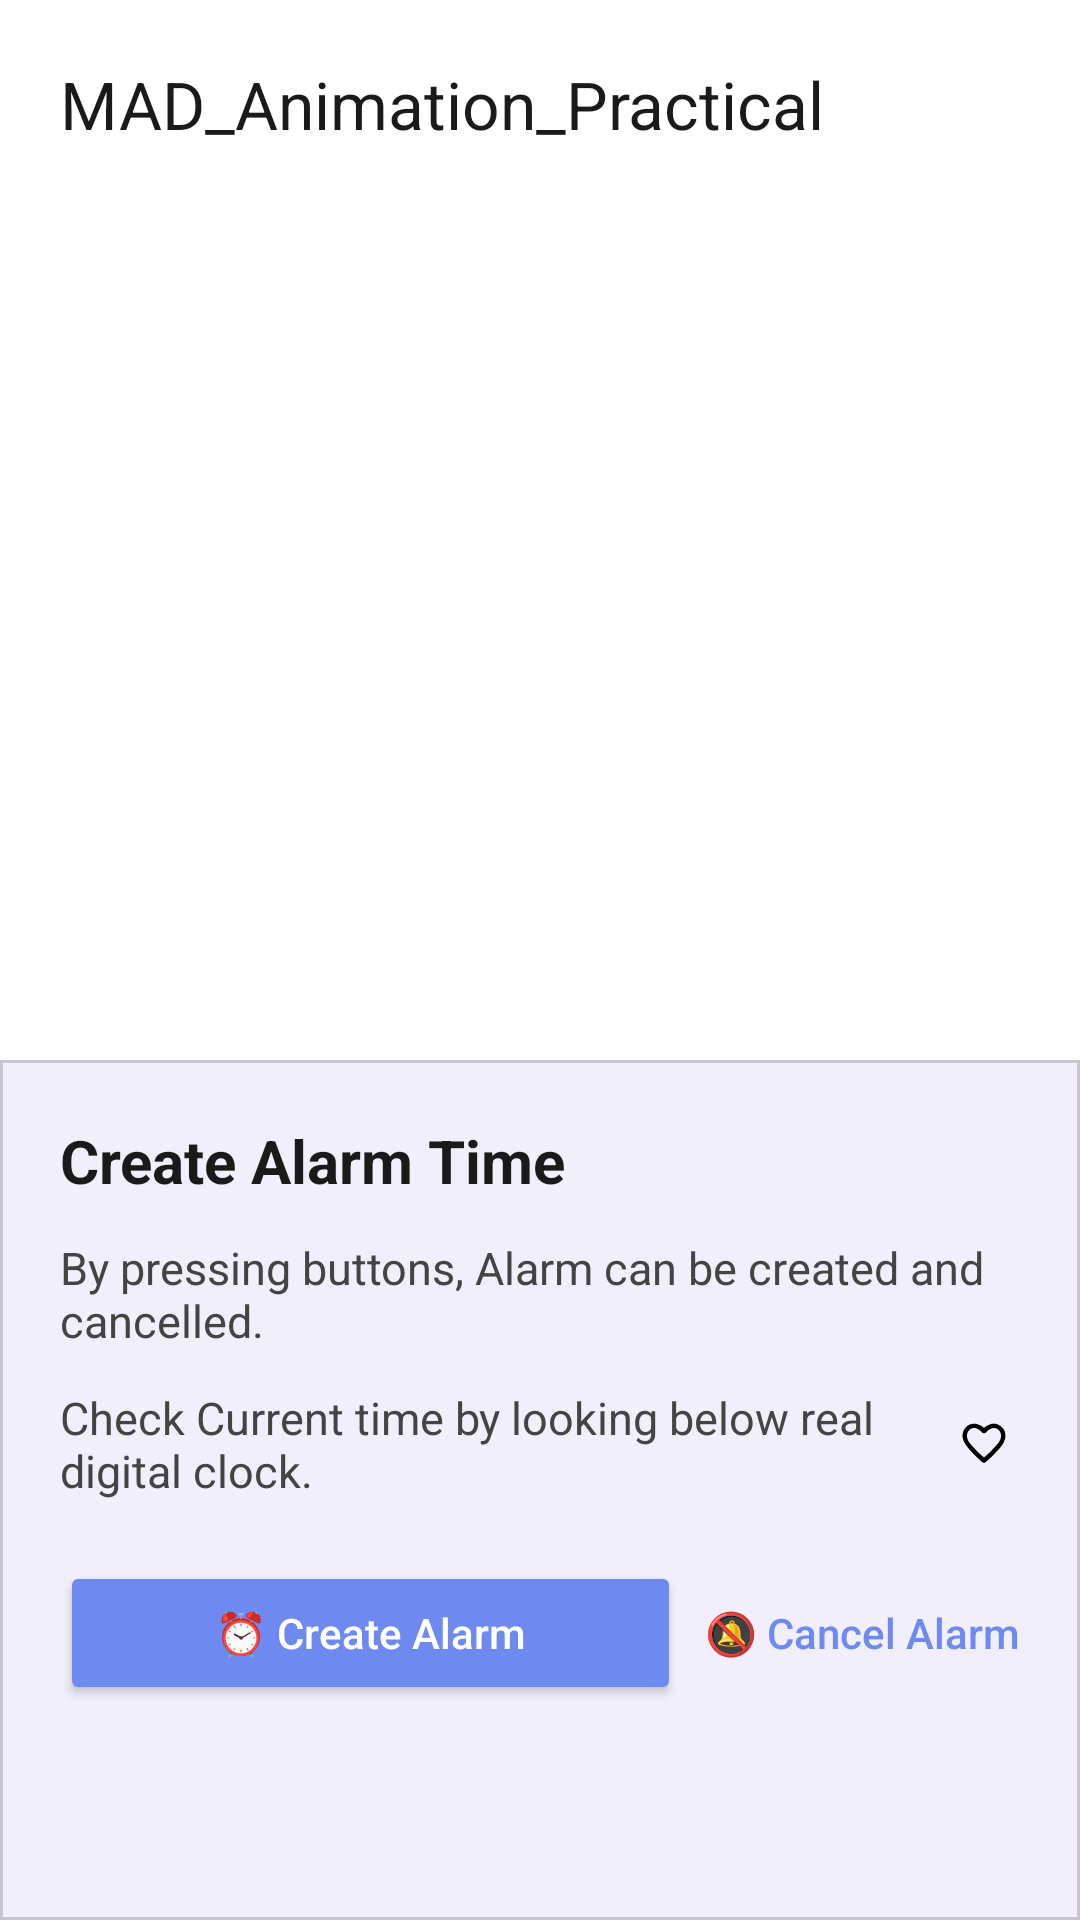

Named icons in this screenshot (1080×1920) and their centers, (x=x, y=y):
heart: (x=984, y=1443)
